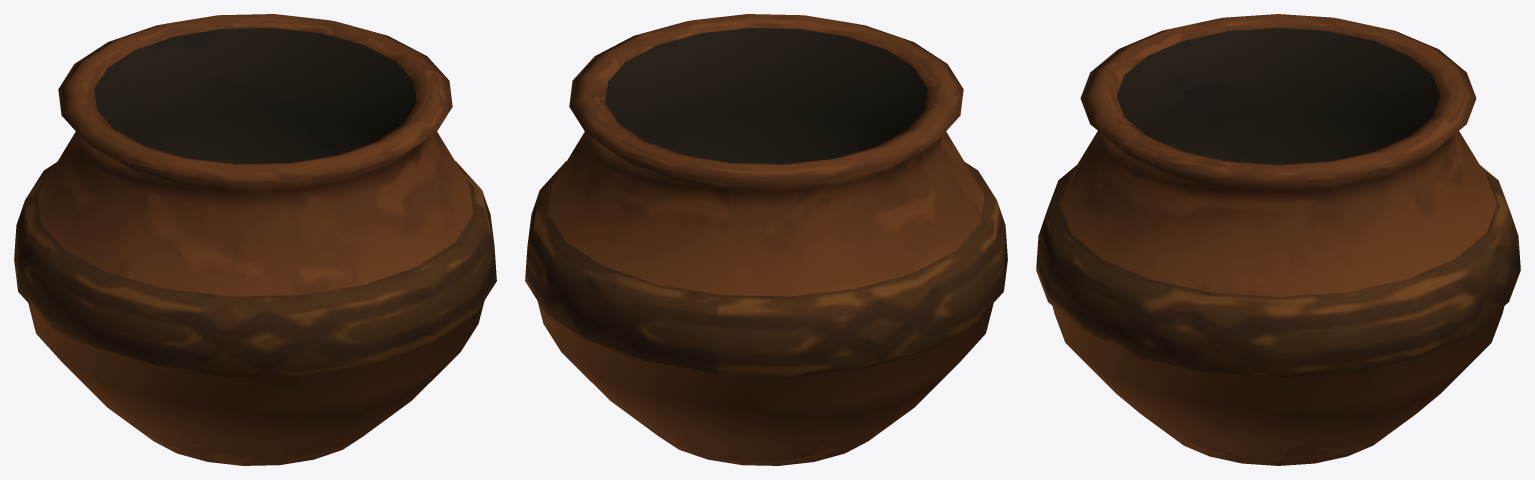
File: Vase_2.gltf
The picture shows the model from 3 angles, left to right: view 1: azimuth 30°, elevation 25°; view 2: azimuth 150°, elevation 25°; view 3: azimuth 270°, elevation 25°; orthographic projection.
Visible parts, largest first — view 1: Vase_2; view 2: Vase_2; view 3: Vase_2.
Part boxes in pixels (<box>): Vase_2: <box>14,14,496,465</box>; Vase_2: <box>525,14,1007,465</box>; Vase_2: <box>1036,14,1520,465</box>.
Bounding box in the file's own units: 0.6947 × 0.5163 × 0.6947.
1 material, 1 textured.
